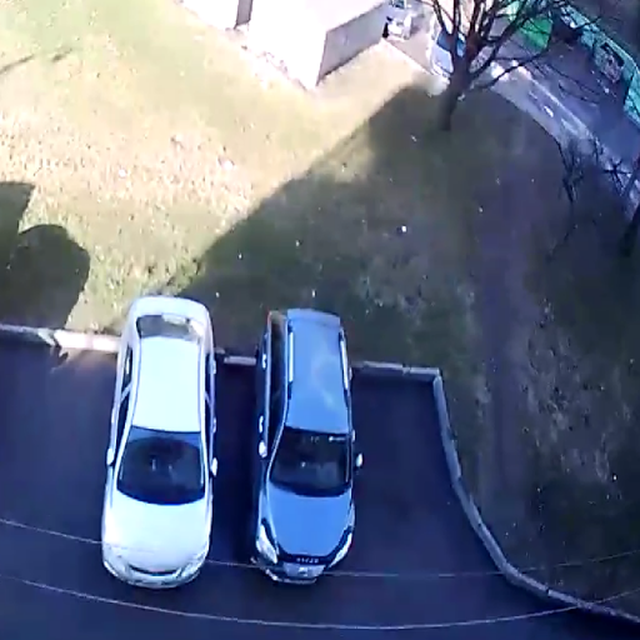car: (103, 293, 221, 588), (251, 308, 357, 587)
